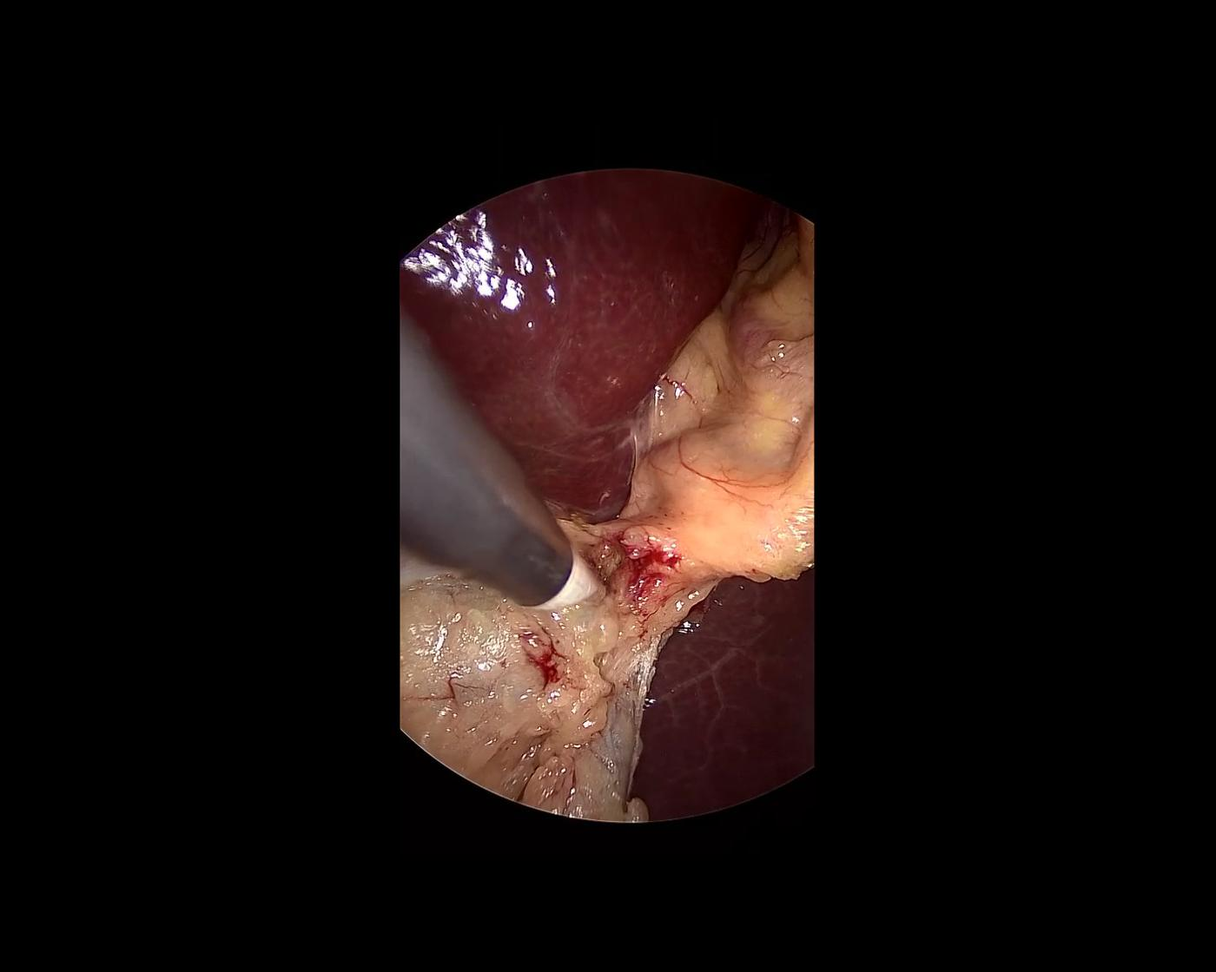Cautery: (286, 300, 611, 675)
Gallbladder: (397, 518, 704, 822)
Liver: (330, 66, 772, 540), (632, 568, 815, 821)
